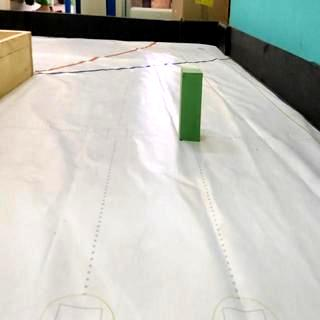greenbox: (180, 66, 203, 143)
